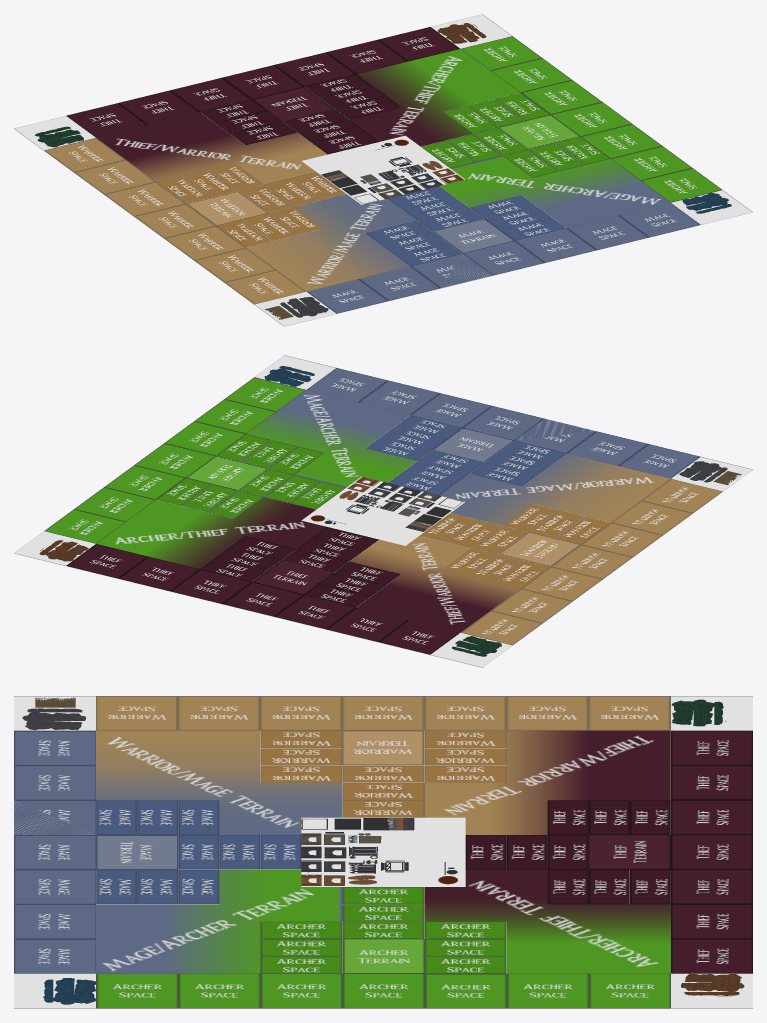
File: Boardplane.fbx
3 renders of one model, top to bottom at view 1: azimuth 30°, elevation 25°; view 2: azimuth 150°, elevation 25°; view 3: azimuth 270°, elevation 25°, orthographic. The views are drawn at different scales.
Parts seen in each view (by area): view 1: Model; view 2: Model; view 3: Model.
Boxes of the visible parts, bbox=[...] form: Model: bbox=[14, 14, 752, 326]; Model: bbox=[14, 355, 752, 667]; Model: bbox=[14, 696, 752, 1008].
Bounding box in the file's own units: 648 × 0.5375 × 648.
